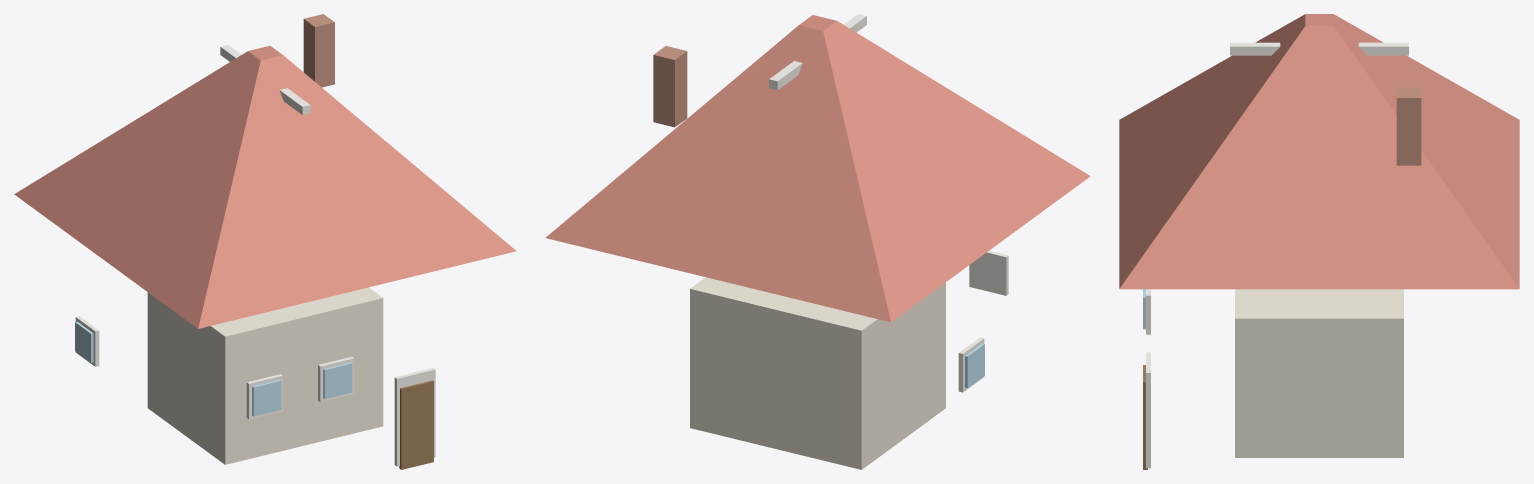
File: house.glb
3 renders of one model, left to right at view 1: azimuth 30°, elevation 25°; view 2: azimuth 150°, elevation 25°; view 3: azimuth 270°, elevation 25°, orthographic. The views are drawn at different scales.
Parts seen in each view (by area): view 1: House; view 2: House; view 3: House.
Part boxes in pixels (x1,y1,x2,y2): House: [14, 14, 516, 469]; House: [545, 14, 1090, 469]; House: [1119, 14, 1519, 469].
Size of the model in its own units: 4.09 by 4.48 by 4.03.
